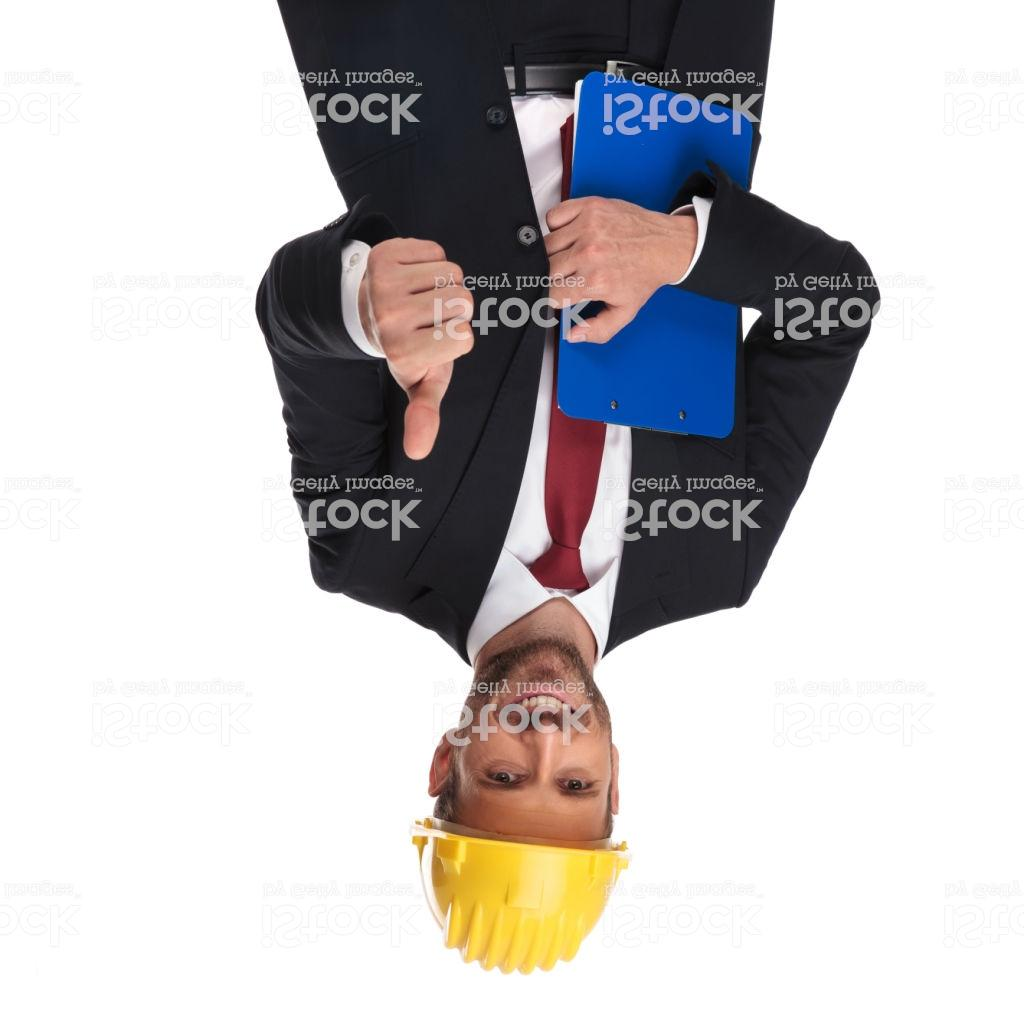thumbsdown: (362, 234, 474, 463)
